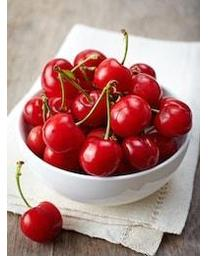cherry: (78, 127, 122, 174), (19, 201, 63, 244), (43, 112, 84, 152), (110, 97, 149, 135), (71, 88, 111, 125), (158, 98, 193, 134), (123, 134, 159, 168), (94, 59, 129, 93), (41, 60, 76, 94), (130, 73, 161, 110), (75, 50, 106, 86), (43, 144, 79, 175), (25, 97, 53, 125), (25, 123, 49, 153), (130, 62, 155, 84)
